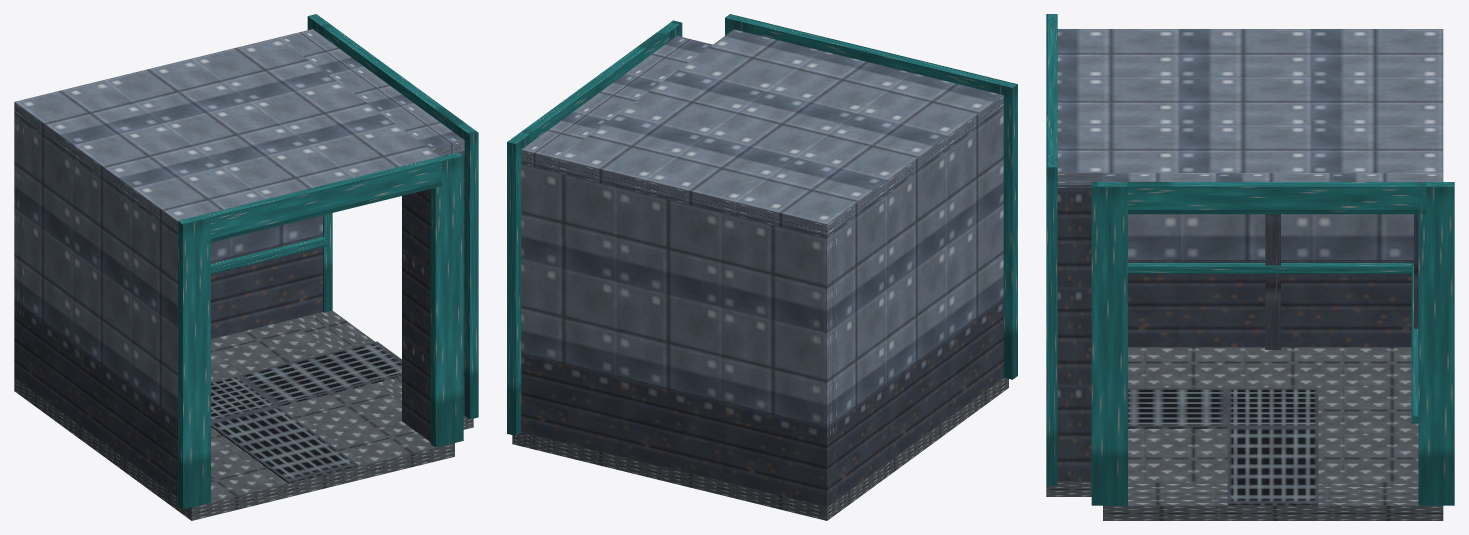
Rendered from corridor_corner_4m.fbx.
The picture shows the model from 3 angles, left to right: view 1: azimuth 30°, elevation 25°; view 2: azimuth 150°, elevation 25°; view 3: azimuth 270°, elevation 25°; orthographic projection. The views are drawn at different scales.
Visible parts, largest first — view 1: corridor_corner_4m; view 2: corridor_corner_4m; view 3: corridor_corner_4m.
Boxes of the visible parts, <box> form: corridor_corner_4m: <box>14,14,478,520</box>; corridor_corner_4m: <box>507,14,1017,520</box>; corridor_corner_4m: <box>1046,14,1454,520</box>.
Size of the model in its own units: 3.6 by 3.25 by 3.6.
Materials: 1 (1 with a texture image).
